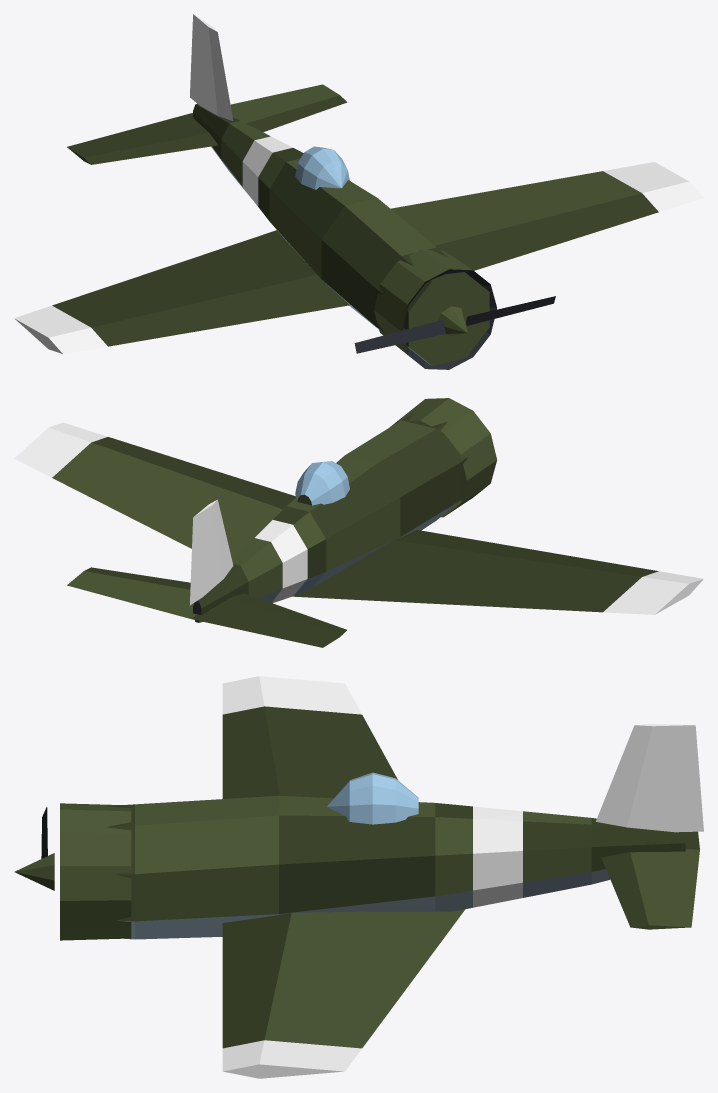
3 renders of one model, top to bottom at view 1: azimuth 30°, elevation 25°; view 2: azimuth 150°, elevation 25°; view 3: azimuth 270°, elevation 25°, orthographic. The views are drawn at different scales.
Parts seen in each view (by area): view 1: body, prop; view 2: body; view 3: body, prop.
Part boxes in pixels (bbox=[...]): body: bbox=[14, 14, 703, 369]; prop: bbox=[354, 296, 555, 353]; body: bbox=[14, 398, 703, 647]; body: bbox=[60, 676, 703, 1078]; prop: bbox=[14, 807, 54, 890].
Bounding box in the file's own units: 9 × 2.26 × 6.76.
